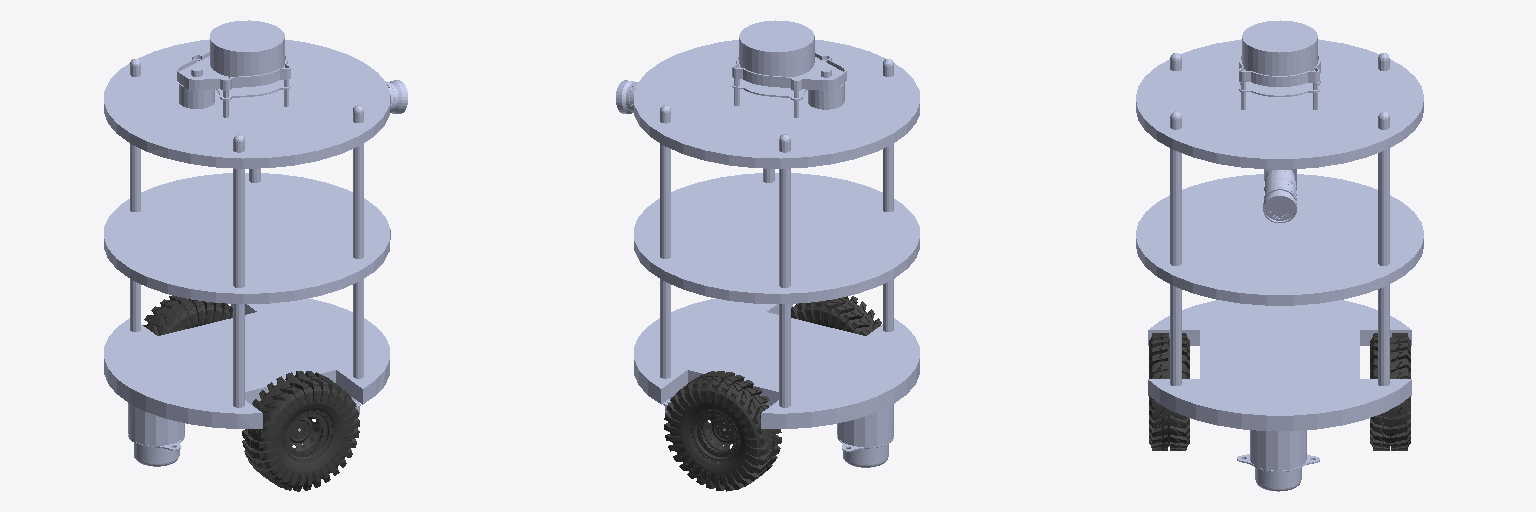
The robot description file, URDF, robot "myturtlebot":
<?xml version="1.0" encoding="utf-8"?>
<!-- This URDF was automatically created by SolidWorks to URDF Exporter! Originally created by [author] ([email redacted]) 
     Commit Version: 1.5.1-0-g916b5db  Build Version: 1.5.7152.31018
     For more information, please see http://wiki.ros.org/sw_urdf_exporter -->
<robot
  name="myturtlebot">

  <link name = "base_footprint"/>

  <link
    name="base_link">
    <inertial>
      <origin
        xyz="0.00010179 4.4427E-07 0.17754"
        rpy="0 0 0" />
      <mass
        value="1.8719" />
      <inertia
        ixx="0.027107"
        ixy="1.9882E-05"
        ixz="-4.0186E-05"
        iyy="0.029311"
        iyz="1.0584E-07"
        izz="0.014323" />
    </inertial>
    <visual>
      <origin
        xyz="0 0 0"
        rpy="0 0 0" />
      <geometry>
        <mesh
          filename="package://myturtlebot/meshes/BODY.STL" />
      </geometry>
      <material
        name="">
        <color
          rgba="0.79216 0.81961 0.93333 1" />
      </material>
    </visual>
    <collision>
      <origin
        xyz="0 0 0"
        rpy="0 0 0" />
      <geometry>
        <mesh
          filename="package://myturtlebot/meshes/BODY.STL" />
      </geometry>
    </collision>
  </link>

  <joint name="base_joint" type="fixed">
    <parent link="base_footprint"/>
    <child link="base_link" />
    <origin xyz="0 0 0.010" rpy="0 0 0"/>
  </joint>

  <link
    name="WHEEL_LEFT">
    <inertial>
      <origin
        xyz="4.1816E-06 0.017628 3.245E-06"
        rpy="0 0 0" />
      <mass
        value="0.080678" />
      <inertia
        ixx="7.9011E-05"
        ixy="-2.3383E-09"
        ixz="-4.9468E-13"
        iyy="0.00013665"
        iyz="-1.8429E-09"
        izz="7.9011E-05" />
    </inertial>
    <visual>
      <origin
        xyz="0 0 0"
        rpy="3.14 0 0" />
      <geometry>
        <mesh
          filename="package://myturtlebot/meshes/WHEEL_LEFT.STL" />
      </geometry>
      <material
        name="">
        <color
          rgba="0.29804 0.29804 0.29804 1" />
      </material>
    </visual>
    <collision>
      <origin
        xyz="0 0 0"
        rpy="0 0 0" />
      <geometry>
        <mesh
          filename="package://myturtlebot/meshes/WHEEL_LEFT.STL" />
      </geometry>
    </collision>
  </link>
  <joint
    name="LF"
    type="continuous">
    <origin
      xyz="-0.000999999999953277 0.0780283661906237 0.0512700000000056"
      rpy="3.14159265358979 -1.5707963267949 0" />
    <parent
      link="base_link" />
    <child
      link="WHEEL_LEFT" />
    <axis
      xyz="0 -1 0" />
  </joint>
  <link
    name="WHEEL_RIGHT">
    <inertial>
      <origin
        xyz="-2.4803E-06 0.017628 -4.681E-06"
        rpy="0 0 0" />
      <mass
        value="0.080678" />
      <inertia
        ixx="7.9011E-05"
        ixy="1.3785E-09"
        ixz="2.9384E-13"
        iyy="0.00013665"
        iyz="2.6394E-09"
        izz="7.9011E-05" />
    </inertial>
    <visual>
      <origin
        xyz="0 0 0"
        rpy="3.14 0 0" />
      <geometry>
        <mesh
          filename="package://myturtlebot/meshes/WHEEL_RIGHT.STL" />
      </geometry>
      <material
        name="">
        <color
          rgba="0.29804 0.29804 0.29804 1" />
      </material>
    </visual>
    <collision>
      <origin
        xyz="0 0 0"
        rpy="0 0 0" />
      <geometry>
        <mesh
          filename="package://myturtlebot/meshes/WHEEL_RIGHT.STL" />
      </geometry>
    </collision>
  </link>
  <joint
    name="RT"
    type="continuous">
    <origin
      xyz="-0.000999999999972886 -0.0780283661906632 0.051270000000006"
      rpy="0 -1.5707963267949 0" />
    <parent
      link="base_link" />
    <child
      link="WHEEL_RIGHT" />
    <axis
      xyz="0 1 0" />
  </joint>
  <link
    name="CASTER_FRONT_CASE">
    <inertial>
      <origin
        xyz="-7.7243E-08 0.0093818 4.9993E-06"
        rpy="0 0 0" />
      <mass
        value="0.022297" />
      <inertia
        ixx="4.2317E-06"
        ixy="-5.2431E-13"
        ixz="-6.6174E-23"
        iyy="6.0233E-06"
        iyz="-8.6692E-23"
        izz="3.9151E-06" />
    </inertial>
    <visual>
      <origin
        xyz="0 0 0"
        rpy="0 0 0" />
      <geometry>
        <mesh
          filename="package://myturtlebot/meshes/CASTER_FRONT_CASE.STL" />
      </geometry>
      <material
        name="">
        <color
          rgba="0.79216 0.81961 0.93333 1" />
      </material>
    </visual>
    <collision>
      <origin
        xyz="0 0 0"
        rpy="0 0 0" />
      <geometry>
        <mesh
          filename="package://myturtlebot/meshes/CASTER_FRONT_CASE.STL" />
      </geometry>
    </collision>
  </link>
  <joint
    name="CFC"
    type="fixed">
    <origin
      xyz="0.08999 -0.001331 0.03"
      rpy="-1.5708 0 -0.030967" />
    <parent
      link="base_link" />
    <child
      link="CASTER_FRONT_CASE" />
    <axis
      xyz="0 0 0" />
  </joint>
  <link
    name="CASTER_FRONT_BALL">
    <inertial>
      <origin
        xyz="-7.3945E-08 -4.9995E-06 2.7756E-17"
        rpy="0 0 0" />
      <mass
        value="0.0081812" />
      <inertia
        ixx="5.1133E-07"
        ixy="-2.4815E-23"
        ixz="1.6456E-23"
        iyy="5.1133E-07"
        iyz="1.8745E-23"
        izz="5.1133E-07" />
    </inertial>
    <visual>
      <origin
        xyz="0 0 0"
        rpy="0 0 0" />
      <geometry>
        <mesh
          filename="package://myturtlebot/meshes/CASTER_FRONT_BALL.STL" />
      </geometry>
      <material
        name="">
        <color
          rgba="0.79216 0.81961 0.93333 1" />
      </material>
    </visual>
    <collision>
      <origin
        xyz="0 0 0"
        rpy="0 0 0" />
      <geometry>
        <mesh
          filename="package://myturtlebot/meshes/CASTER_FRONT_BALL.STL" />
      </geometry>
    </collision>
  </link>
  <joint
    name="CFB"
    type="continuous">
    <origin
      xyz="0 0.0175 0"
      rpy="-1.5708 0.030967 -3.1416" />
    <parent
      link="CASTER_FRONT_CASE" />
    <child
      link="CASTER_FRONT_BALL" />
    <axis
      xyz="1 1 1" />
  </joint>
  <link
    name="CASTER_BACK_CASE">
    <inertial>
      <origin
        xyz="-7.7243E-08 0.0093818 -4.9993E-06"
        rpy="0 0 0" />
      <mass
        value="0.022297" />
      <inertia
        ixx="4.2317E-06"
        ixy="-5.2431E-13"
        ixz="4.8969E-22"
        iyy="6.0233E-06"
        iyz="9.1589E-23"
        izz="3.9151E-06" />
    </inertial>
    <visual>
      <origin
        xyz="0 0 0"
        rpy="0 0 0" />
      <geometry>
        <mesh
          filename="package://myturtlebot/meshes/CASTER_BACK_CASE.STL" />
      </geometry>
      <material
        name="">
        <color
          rgba="0.79216 0.81961 0.93333 1" />
      </material>
    </visual>
    <collision>
      <origin
        xyz="0 0 0"
        rpy="0 0 0" />
      <geometry>
        <mesh
          filename="package://myturtlebot/meshes/CASTER_BACK_CASE.STL" />
      </geometry>
    </collision>
  </link>
  <joint
    name="CBC"
    type="fixed">
    <origin
      xyz="-0.08999 0.001331 0.03"
      rpy="-1.5708 0 -3.1402" />
    <parent
      link="base_link" />
    <child
      link="CASTER_BACK_CASE" />
    <axis
      xyz="0 0 0" />
  </joint>
  <link
    name="CASTER_BACK_BALL">
    <inertial>
      <origin
        xyz="-7.3945E-08 -4.9995E-06 0"
        rpy="0 0 0" />
      <mass
        value="0.0081812" />
      <inertia
        ixx="5.1133E-07"
        ixy="-6.6174E-24"
        ixz="-8.1841E-24"
        iyy="5.1133E-07"
        iyz="3.0769E-23"
        izz="5.1133E-07" />
    </inertial>
    <visual>
      <origin
        xyz="0 0 0"
        rpy="0 0 0" />
      <geometry>
        <mesh
          filename="package://myturtlebot/meshes/CASTER_BACK_BALL.STL" />
      </geometry>
      <material
        name="">
        <color
          rgba="0.79216 0.81961 0.93333 1" />
      </material>
    </visual>
    <collision>
      <origin
        xyz="0 0 0"
        rpy="0 0 0" />
      <geometry>
        <mesh
          filename="package://myturtlebot/meshes/CASTER_BACK_BALL.STL" />
      </geometry>
    </collision>
  </link>
  <joint
    name="CBB"
    type="continuous">
    <origin
      xyz="0 0.0175 0"
      rpy="1.5708 0.001388 0" />
    <parent
      link="CASTER_BACK_CASE" />
    <child
      link="CASTER_BACK_BALL" />
    <axis
      xyz="1 1 1" />
  </joint>
  <link
    name="PI_CAMERA">
    <inertial>
      <origin
        xyz="-0.024074 7.017E-06 -3.5645E-05"
        rpy="0 0 0" />
      <mass
        value="0.025882" />
      <inertia
        ixx="2.6639E-06"
        ixy="-1.0075E-09"
        ixz="-1.8884E-08"
        iyy="5.5839E-06"
        iyz="-8.6051E-10"
        izz="5.5705E-06" />
    </inertial>
    <visual>
      <origin
        xyz="0 0 0"
        rpy="0 0 0" />
      <geometry>
        <mesh
          filename="package://myturtlebot/meshes/PI_CAMERA.STL" />
      </geometry>
      <material
        name="">
        <color
          rgba="0.79216 0.81961 0.93333 1" />
      </material>
    </visual>
    <collision>
      <origin
        xyz="0 0 0"
        rpy="0 0 0" />
      <geometry>
        <mesh
          filename="package://myturtlebot/meshes/PI_CAMERA.STL" />
      </geometry>
    </collision>
  </link>
  <joint
    name="PI_CAM"
    type="fixed">
    <origin
      xyz="0.15313852393051 6.18966041559654E-05 0.297322039651847"
      rpy="0 0.174532925199498 0" />
    <parent
      link="base_link" />
    <child
      link="PI_CAMERA" />
    <axis
      xyz="0 0 0" />
  </joint>
  <link
    name="RASPBERRY_PI">
    <inertial>
      <origin
        xyz="0.012991 0.0023637 0.0073701"
        rpy="0 0 0" />
      <mass
        value="0.017178" />
      <inertia
        ixx="5.1363E-06"
        ixy="6.9056E-08"
        ixz="-1.0943E-06"
        iyy="1.0804E-05"
        iyz="1.797E-08"
        izz="1.5157E-05" />
    </inertial>
    <visual>
      <origin
        xyz="0 0 0"
        rpy="0 0 0" />
      <geometry>
        <mesh
          filename="package://myturtlebot/meshes/RASPBERRY_PI.STL" />
      </geometry>
      <material
        name="">
        <color
          rgba="0.79216 0.81961 0.93333 1" />
      </material>
    </visual>
    <collision>
      <origin
        xyz="0 0 0"
        rpy="0 0 0" />
      <geometry>
        <mesh
          filename="package://myturtlebot/meshes/RASPBERRY_PI.STL" />
      </geometry>
    </collision>
  </link>
  <joint
    name="RPI"
    type="fixed">
    <origin
      xyz="0 0 0.20227"
      rpy="0 0 0.075236" />
    <parent
      link="base_link" />
    <child
      link="RASPBERRY_PI" />
    <axis
      xyz="0 0 0" />
  </joint>
  <link
    name="lidar_link">
    <inertial>
      <origin
        xyz="0.00010179 4.4427E-07 0.17754"
        rpy="0 0 0" />
      <mass
        value="1.8719" />
      <inertia
        ixx="0.027107"
        ixy="1.9882E-05"
        ixz="-4.0186E-05"
        iyy="0.029311"
        iyz="1.0584E-07"
        izz="0.014323" />
    </inertial>
    <visual>
      <origin
        xyz="0 0 0"
        rpy="0 0 0" />
      <geometry>
        <mesh
          filename="package://myturtlebot/meshes/lidar_link.STL" />
      </geometry>
      <material
        name="">
        <color
          rgba="0.79216 0.81961 0.93333 1" />
      </material>
    </visual>
    <collision>
      <origin
        xyz="0 0 0"
        rpy="0 0 0" />
      <geometry>
        <mesh
          filename="package://myturtlebot/meshes/lidar_link.STL" />
      </geometry>
    </collision>
  </link>
  <joint
    name="lidar_joint"
    type="fixed">
    <origin
      xyz="0 0 0.35927"
      rpy="0 0 -0.01479" />
    <parent
      link="base_link" />
    <child
      link="lidar_link" />
    <axis
      xyz="0 0 0" />
  </joint>

  <gazebo reference="lidar_link">
    <sensor type="ray" name="head_hokuyo_sensor">
      <pose>0 0 0 0 0 0</pose>
      <visualize>false</visualize>
      <update_rate>40</update_rate>
      <ray>
        <scan>
          <horizontal>
            <samples>720</samples>
            <resolution>1</resolution>
            <min_angle>-1.57</min_angle>
            <max_angle>1.57</max_angle>
          </horizontal>
        </scan>
        <range>
          <min>0.10</min>
          <max>4.0</max>
          <resolution>0.01</resolution>
        </range>
        <noise>
          <type>gaussian</type>
          <!-- Noise parameters based on published spec for Hokuyo laser
               achieving "+-30mm" accuracy at range < 10m.  A mean of 0.0m and
               stddev of 0.01m will put 99.7% of samples within 0.03m of the true
               reading. -->
          <mean>0.0</mean>
          <stddev>0.01</stddev>
        </noise>
      </ray>
      <plugin name="gazebo_ros_head_hokuyo_controller" filename="libgazebo_ros_laser.so">
        <topicName>scan</topicName>
        <frameName>lidar_link</frameName>
      </plugin>
    </sensor>
  </gazebo>

  <gazebo reference="PI_CAMERA">
    <sensor type="camera" name="rpi_camera">
      <update_rate>30.0</update_rate>
      <camera name="head">
        <horizontal_fov>1.3962634</horizontal_fov>
        <image>
          <width>800</width>
          <height>800</height>
          <format>R8G8B8</format>
        </image>
        <clip>
          <near>0.02</near>
          <far>300</far>
        </clip>
        <noise>
          <type>gaussian</type>
          <!-- Noise is sampled independently per pixel on each frame.
               That pixel's noise value is added to each of its color
               channels, which at that point lie in the range [0,1]. -->
          <mean>0.0</mean>
          <stddev>0.007</stddev>
        </noise>
      </camera>
      <plugin name="camera_controller" filename="libgazebo_ros_camera.so">
        <alwaysOn>true</alwaysOn>
        <updateRate>0.0</updateRate>
        <cameraName>rpi_camera</cameraName>
        <imageTopicName>image_raw</imageTopicName>
        <cameraInfoTopicName>camera_info</cameraInfoTopicName>
        <frameName>PI_CAMERA</frameName>
        <hackBaseline>0.07</hackBaseline>
        <distortionK1>0.0</distortionK1>
        <distortionK2>0.0</distortionK2>
        <distortionK3>0.0</distortionK3>
        <distortionT1>0.0</distortionT1>
        <distortionT2>0.0</distortionT2>
      </plugin>
    </sensor>
  </gazebo>

  <gazebo>
        <plugin name="gazebo_ros_control" filename="libgazebo_ros_control.so">
          <robotNamespace>/myturtlebot</robotNamespace>
          <robotSimType>gazebo_ros_control/DefaultRobotHWSim</robotSimType>
          <legacyModeNS>true</legacyModeNS>
        </plugin>
  </gazebo>

<gazebo>
    <plugin name="differential_drive_controller" filename="libgazebo_ros_diff_drive.so">
      <commandTopic>myturtlebot/cmd_vel</commandTopic>
      <odometryTopic>odom</odometryTopic>
      <odometryFrame>odom</odometryFrame>
      <odometrySource>world</odometrySource>
      <publishOdomTF>true</publishOdomTF>
      <robotBaseFrame>base_footprint</robotBaseFrame>
      <broadcastTF>1</broadcastTF>
      <publishWheelTF>false</publishWheelTF>
      <publishTf>true</publishTf>
      <publishWheelJointState>true</publishWheelJointState>
      <legacyMode>false</legacyMode>
      <updateRate>30</updateRate>
      <leftJoint>LF</leftJoint>
      <rightJoint>RT</rightJoint>
      <wheelSeparation>0.156</wheelSeparation>
      <wheelDiameter>0.100</wheelDiameter>
      <wheelAcceleration>1</wheelAcceleration>
      <wheelTorque>500</wheelTorque>
      <rosDebugLevel>na</rosDebugLevel>
    </plugin>
  </gazebo>

<gazebo reference="base_link">
  <material>Gazebo/Grey</material>
</gazebo>
<gazebo reference="WHEEL_LEFT">
  <material>Gazebo/DarkGrey</material>
</gazebo>
<gazebo reference="WHEEL_RIGHT">
  <material>Gazebo/DarkGrey</material>
</gazebo>
<gazebo reference="CASTER_FRONT_CASE">
  <material>Gazebo/Grey</material>
</gazebo>
<gazebo reference="CASTER_BACK_CASE">
  <material>Gazebo/Grey</material>
</gazebo>
<gazebo reference="CASTER_BACK_BALL">
  <mu1>0.0</mu1>
  <mu2>0.0</mu2>
  <material>Gazebo/Orange</material>
</gazebo>
<gazebo reference="CASTER_FRONT_BALL">
  <mu1>0.0</mu1>
  <mu2>0.0</mu2>
  <material>Gazebo/Orange</material>
</gazebo>
<gazebo reference="lidar_link">
    <material>Gazebo/Blue</material>
</gazebo>
<gazebo reference="RASPBERRY_PI">
    <material>Gazebo/Green</material>
</gazebo>
<!-- <gazebo reference="PI_CAMERA">
    <material>Gazebo/Red</material>
</gazebo> -->

</robot>

--- Render facts (derived) ---
The picture shows the robot from 3 angles, left to right: view 1: azimuth 30°, elevation 25°; view 2: azimuth 150°, elevation 25°; view 3: azimuth 270°, elevation 25°; orthographic projection.
Model myturtlebot with 11 links and 10 joints (4 continuous, 6 fixed), rooted at base_footprint, posed all joints at 0.
Links seen in each view (by area): view 1: base_link, WHEEL_RIGHT, lidar_link, WHEEL_LEFT, CASTER_BACK_CASE, PI_CAMERA; view 2: base_link, WHEEL_LEFT, lidar_link, WHEEL_RIGHT, CASTER_BACK_CASE, PI_CAMERA; view 3: base_link, lidar_link, WHEEL_LEFT, WHEEL_RIGHT, PI_CAMERA, CASTER_FRONT_CASE.
Link boxes in pixels (<box>): base_link: <box>104,39,390,445</box>; WHEEL_RIGHT: <box>242,371,359,491</box>; lidar_link: <box>177,20,290,117</box>; WHEEL_LEFT: <box>143,295,232,335</box>; CASTER_BACK_CASE: <box>128,434,184,466</box>; PI_CAMERA: <box>385,80,407,113</box>; base_link: <box>634,40,919,446</box>; WHEEL_LEFT: <box>664,371,781,491</box>; lidar_link: <box>732,20,846,117</box>; WHEEL_RIGHT: <box>791,296,881,335</box>; CASTER_BACK_CASE: <box>837,435,893,467</box>; PI_CAMERA: <box>616,80,637,113</box>; base_link: <box>1136,39,1423,470</box>; lidar_link: <box>1239,20,1320,109</box>; WHEEL_LEFT: <box>1370,333,1410,450</box>; WHEEL_RIGHT: <box>1149,333,1189,450</box>; PI_CAMERA: <box>1263,169,1296,222</box>; CASTER_FRONT_CASE: <box>1237,454,1319,491</box>.
Size in the robot's own frame: 0.2802 by 0.25 by 0.3913 metres.
Meshes: 10 distinct files referenced, 9 mesh visuals loaded (9 binary STL); not drawn: 1 (reference not matched to a file when rendering).
